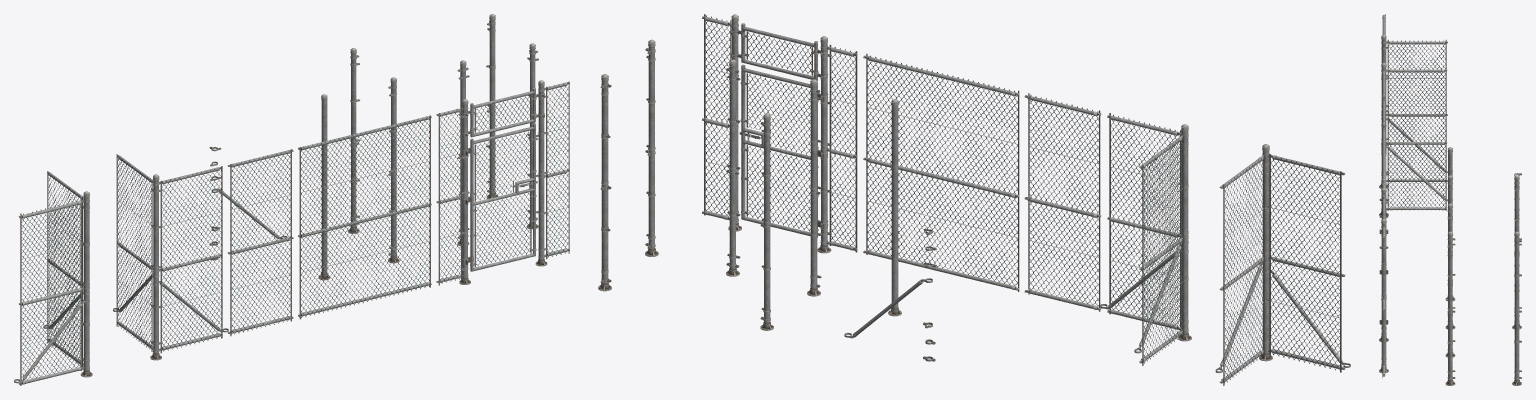
File: alambrado.glb
3 views of the same model, side by side, from view 1: azimuth 30°, elevation 25°; view 2: azimuth 150°, elevation 25°; view 3: azimuth 270°, elevation 25° (orthographic). The views are drawn at different scales.
Parts seen in each view (by area): view 1: modular_chainlink_fence_double, modular_chainlink_fence_corner_outer, modular_chainlink_fence_corner_inner, modular_chainlink_fence_door_frame, modular_chainlink_fence, modular_chainlink_fence_door_gate, modular_chainlink_fence_start_01_corner_02, modular_chainlink_fence_post, modular_chainlink_fence_end_02, modular_chainlink_fence_end_01, modular_chainlink_fence_start_01_corner_01, modular_chainlink_post_middle; view 2: modular_chainlink_fence_double, modular_chainlink_fence_corner_inner, modular_chainlink_fence_corner_outer, modular_chainlink_fence_door_frame, modular_chainlink_fence, modular_chainlink_fence_door_gate, modular_chainlink_fence_end_01, modular_chainlink_fence_start_01_corner_02, modular_chainlink_fence_post, modular_chainlink_post_middle, modular_chainlink_fence_start_01_corner_01, modular_chainlink_fence_end_02; view 3: modular_chainlink_fence_corner_outer, modular_chainlink_fence_corner_inner, modular_chainlink_fence_door_frame, modular_chainlink_fence_start_01_corner_02, modular_chainlink_fence_start_01_corner_01, modular_chainlink_fence_end_02, modular_chainlink_fence_double, modular_chainlink_fence_end_01, modular_chainlink_post_middle, modular_chainlink_fence_post.
Part boxes in pixels (x1,y1,x2,y2): modular_chainlink_fence_double: (298, 115, 431, 319); modular_chainlink_fence_corner_outer: (113, 154, 228, 360); modular_chainlink_fence_corner_inner: (14, 171, 92, 385); modular_chainlink_fence_door_frame: (436, 80, 569, 285); modular_chainlink_fence: (227, 149, 293, 336); modular_chainlink_fence_door_gate: (470, 123, 536, 271); modular_chainlink_fence_start_01_corner_02: (486, 14, 498, 198); modular_chainlink_fence_post: (318, 94, 329, 280); modular_chainlink_fence_end_02: (347, 48, 360, 233); modular_chainlink_fence_end_01: (388, 77, 399, 263); modular_chainlink_fence_start_01_corner_01: (526, 43, 538, 229); modular_chainlink_post_middle: (457, 60, 469, 245); modular_chainlink_fence_double: (863, 53, 1019, 291); modular_chainlink_fence_corner_inner: (1215, 144, 1350, 385); modular_chainlink_fence_corner_outer: (1100, 113, 1191, 365); modular_chainlink_fence_door_frame: (702, 14, 857, 253); modular_chainlink_fence: (1024, 93, 1101, 311); modular_chainlink_fence_door_gate: (740, 64, 818, 237); modular_chainlink_fence_end_01: (807, 79, 821, 296); modular_chainlink_fence_start_01_corner_02: (598, 74, 611, 291); modular_chainlink_fence_post: (888, 99, 901, 316); modular_chainlink_post_middle: (726, 59, 740, 276); modular_chainlink_fence_start_01_corner_01: (645, 39, 658, 256); modular_chainlink_fence_end_02: (760, 113, 773, 330); modular_chainlink_fence_corner_outer: (1379, 62, 1452, 234); modular_chainlink_fence_corner_inner: (1379, 14, 1452, 188); modular_chainlink_fence_door_frame: (1379, 183, 1388, 378); modular_chainlink_fence_start_01_corner_02: (1512, 231, 1521, 385); modular_chainlink_fence_start_01_corner_01: (1445, 231, 1455, 385); modular_chainlink_fence_end_02: (1512, 175, 1521, 329); modular_chainlink_fence_double: (1382, 126, 1385, 183); modular_chainlink_fence_end_01: (1445, 175, 1455, 329); modular_chainlink_post_middle: (1445, 203, 1455, 357); modular_chainlink_fence_post: (1445, 147, 1455, 301).
Size of the model in its own units: 8.11 by 2.52 by 2.15.
2 materials, 2 textured.
